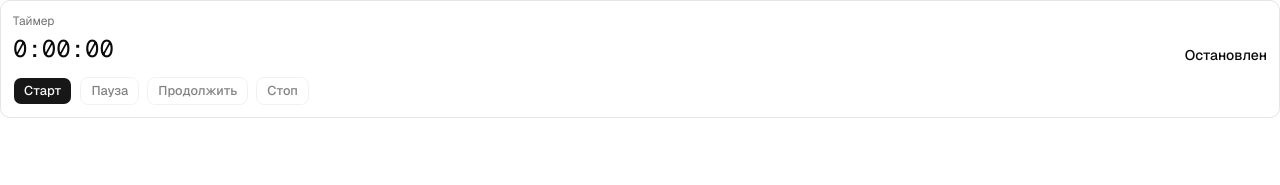
Test: TaskTimer › shows an error from a failed request
Click the button with aria-label "Запустить таймер" at (43, 91), box left=13, top=77, right=72, bottom=105
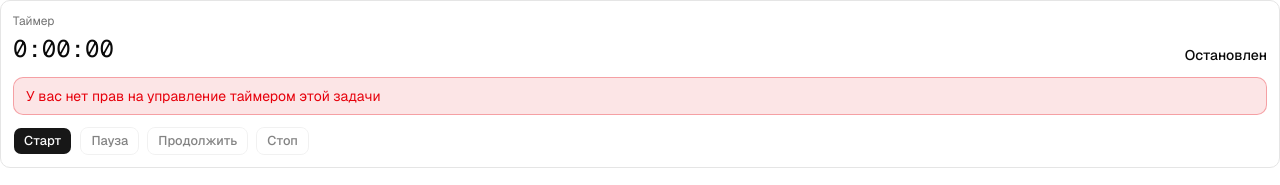
Result: the message reads "У вас нет прав на управление таймером этой задачи" at left=26, top=87, right=381, bottom=105
